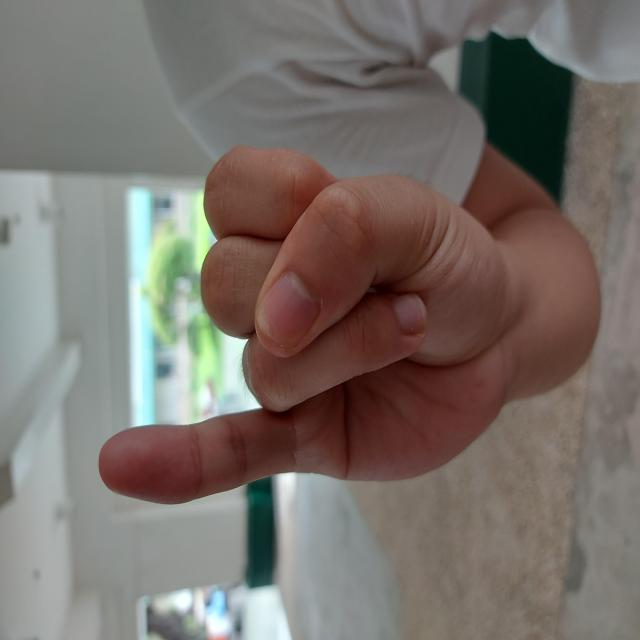I: (133, 96, 502, 510)
